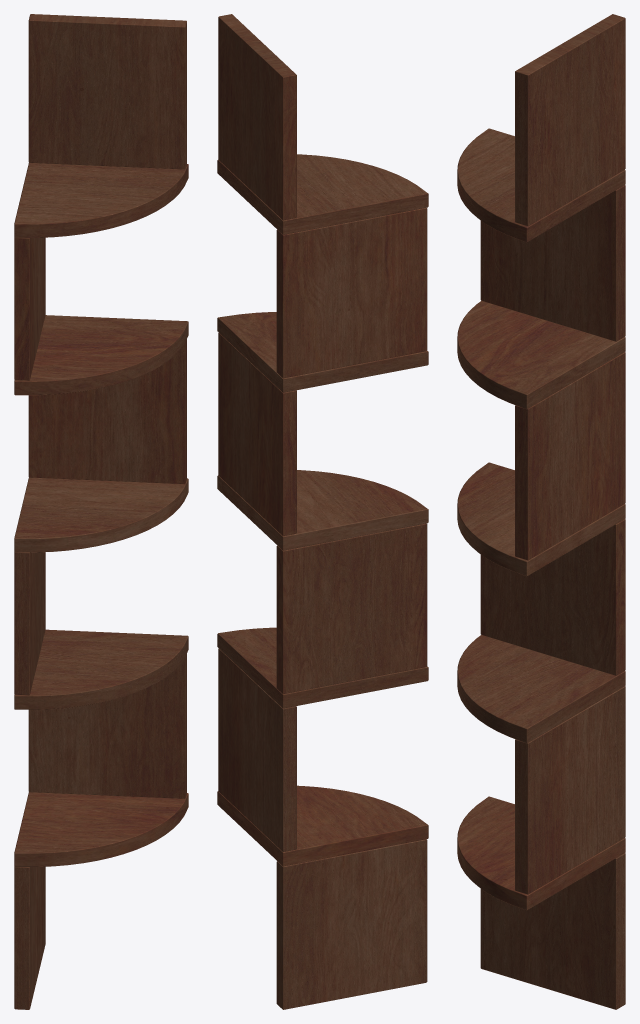
File: corner_shelve.glb
The picture shows the model from 3 angles, left to right: view 1: azimuth 30°, elevation 25°; view 2: azimuth 150°, elevation 25°; view 3: azimuth 270°, elevation 25°; orthographic projection. The views are drawn at different scales.
Visible parts, largest first — view 1: Corner shelve; view 2: Corner shelve; view 3: Corner shelve.
Part boxes in pixels (x1,y1,x2,y2): Corner shelve: [14, 14, 188, 1009]; Corner shelve: [217, 14, 428, 1009]; Corner shelve: [457, 14, 625, 1009].
Bounding box in the file's own units: 0.2812 × 1.3 × 0.201.
Materials: 1 (1 with a texture image).
